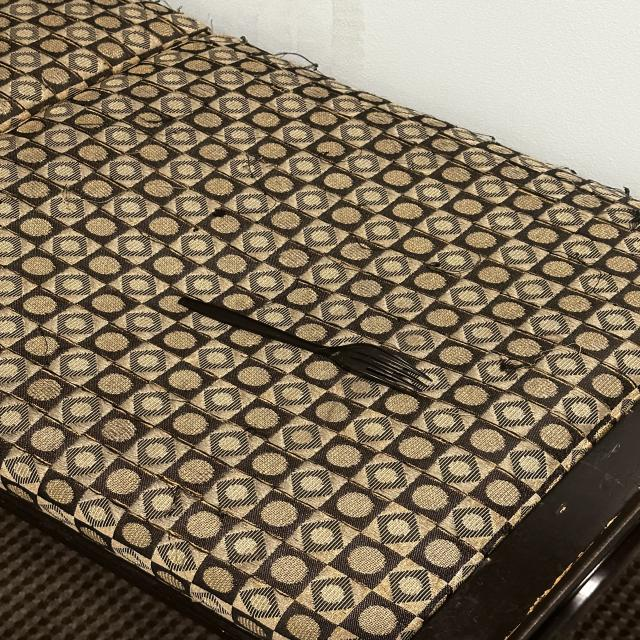fork: (154, 268, 461, 437)
